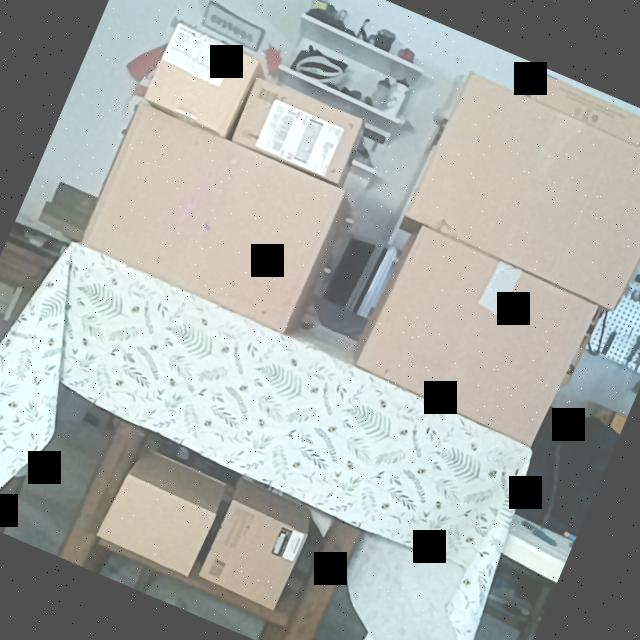box: (78, 100, 348, 332), (405, 78, 640, 309), (358, 226, 594, 441), (228, 76, 366, 186), (144, 22, 260, 138), (98, 472, 217, 576), (198, 499, 307, 607), (530, 71, 640, 148)
